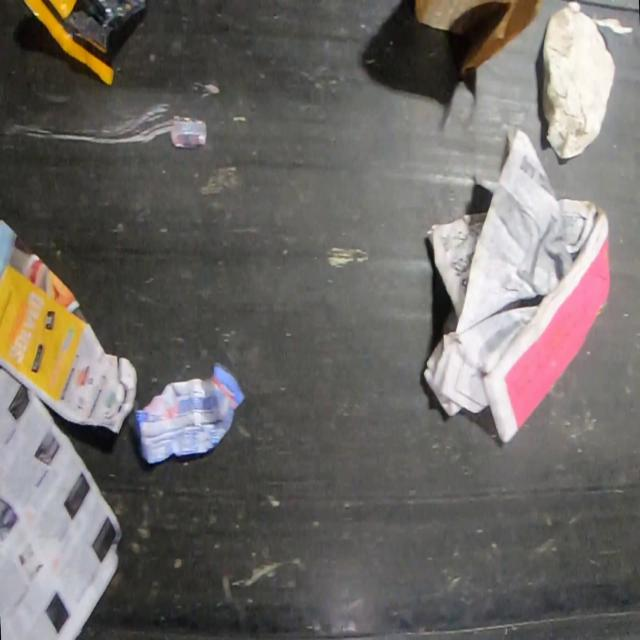cardboard: (0, 212, 139, 438), (413, 0, 541, 78)
soft_plastic: (126, 356, 249, 467), (21, 0, 150, 88)
